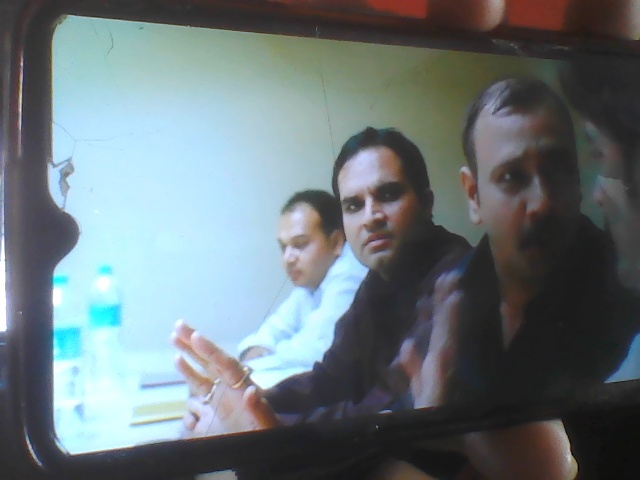fake: (330, 110, 450, 280)
